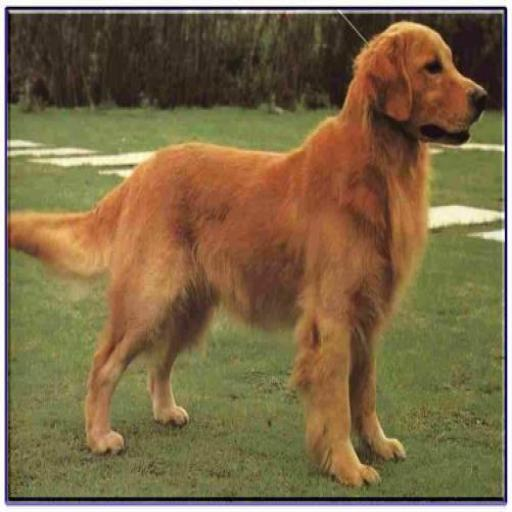dog_face: (358, 23, 475, 150)
